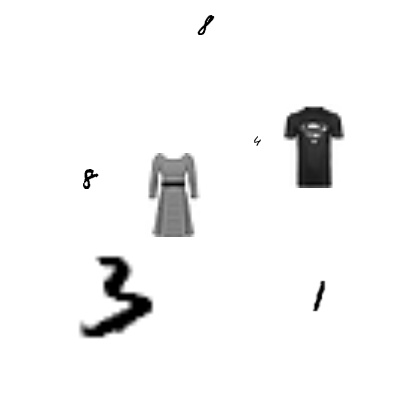1: (298, 275, 340, 317)
3: (60, 241, 172, 353)
4: (250, 134, 264, 148)
8: (192, 10, 220, 38), (74, 163, 102, 191)
Dress: (131, 153, 215, 237)
T-shirt/top: (272, 104, 356, 188)
